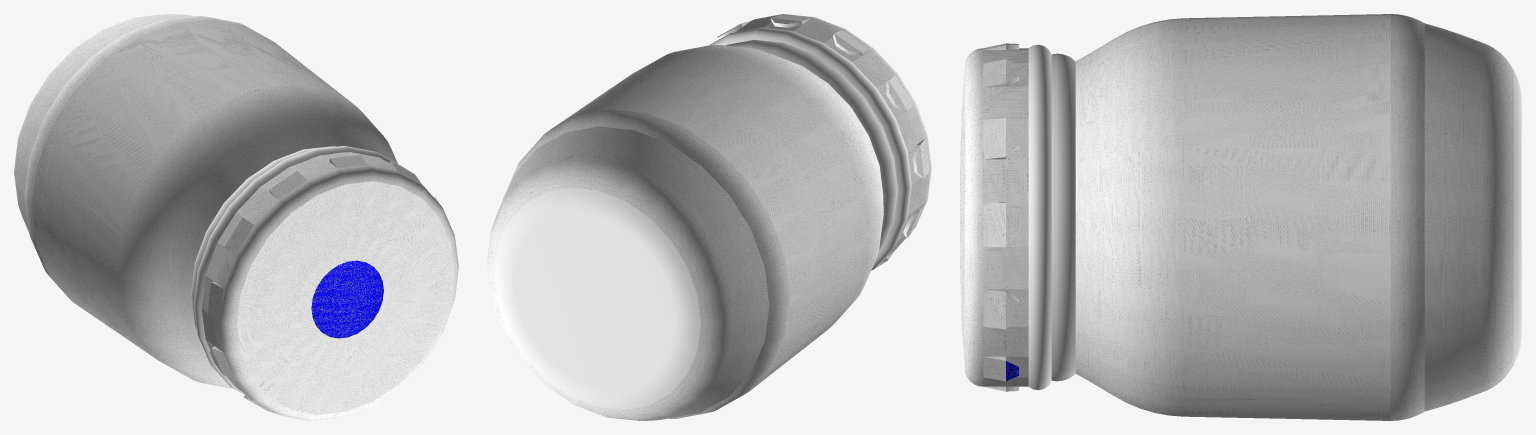
File: model_scale.obj
3 renders of one model, left to right at view 1: azimuth 30°, elevation 25°; view 2: azimuth 150°, elevation 25°; view 3: azimuth 270°, elevation 25°, orthographic. The views are drawn at different scales.
Visible parts, largest first — view 1: mesh3_mesh3-geometry; view 2: mesh3_mesh3-geometry; view 3: mesh3_mesh3-geometry.
Boxes of the visible parts, x1=… form: mesh3_mesh3-geometry: x1=14, y1=14, x2=458, y2=420; mesh3_mesh3-geometry: x1=487, y1=14, x2=931, y2=420; mesh3_mesh3-geometry: x1=960, y1=14, x2=1521, y2=420.
Size of the model in its own units: 0.1347 by 0.1347 by 0.1852.
